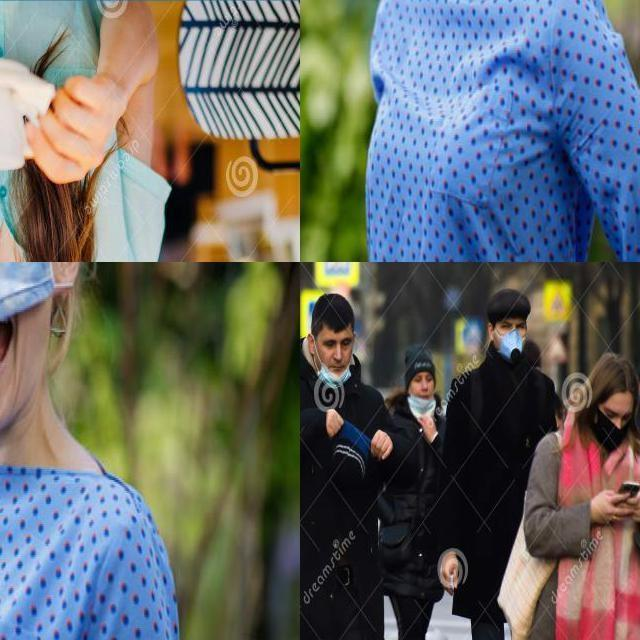hairnet: (319, 333, 351, 386), (411, 372, 434, 412)
mask: (589, 397, 628, 450), (490, 324, 530, 363)
no_apron: (22, 70, 136, 189), (587, 484, 631, 534), (369, 427, 392, 462)
no_gloves: (586, 347, 638, 404), (309, 292, 362, 337)
